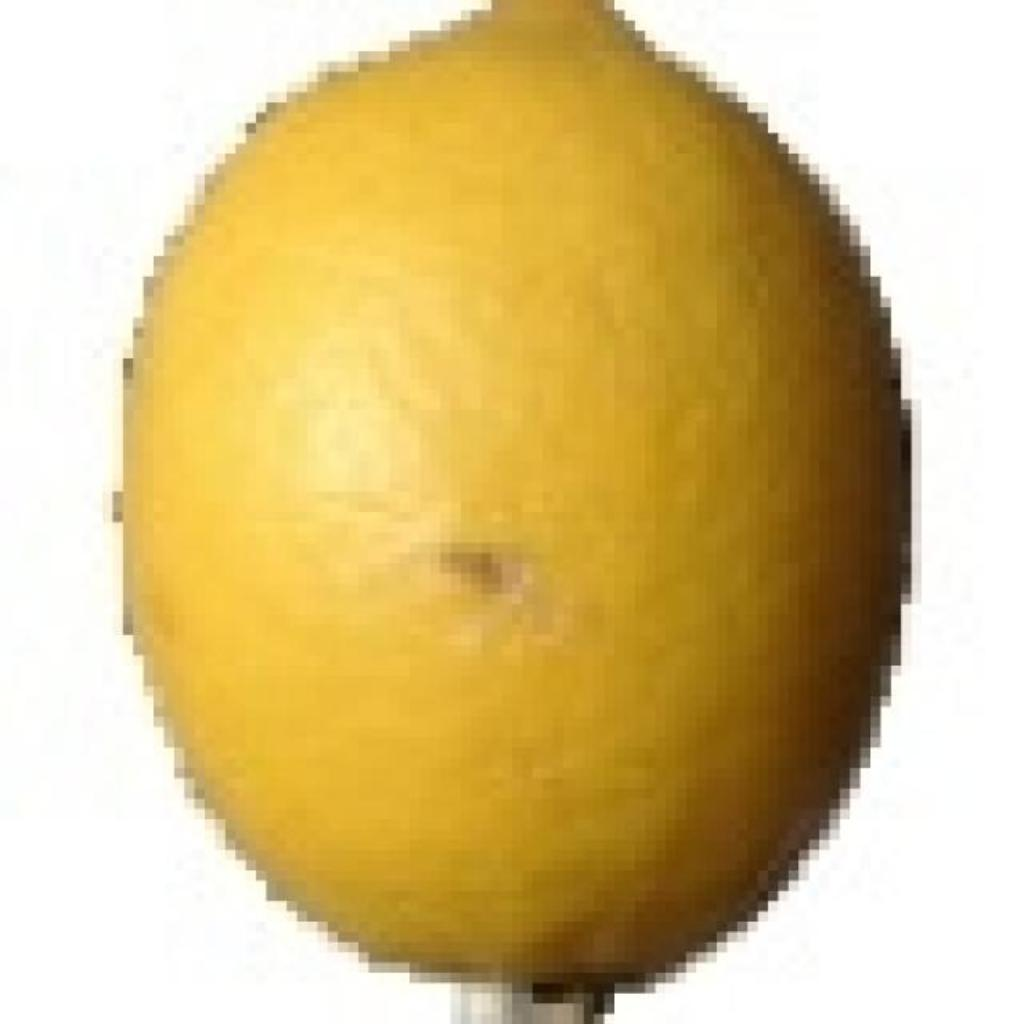lemon: (124, 0, 902, 989)
